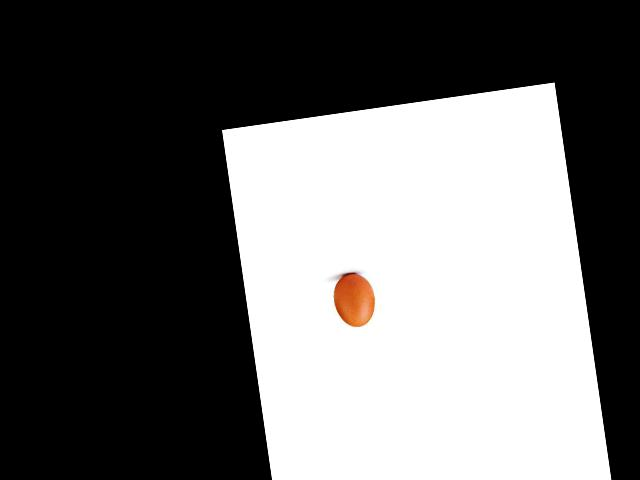egg: (330, 271, 377, 329)
